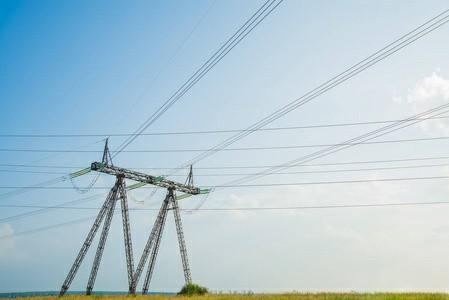power_tower: (47, 137, 212, 295)
